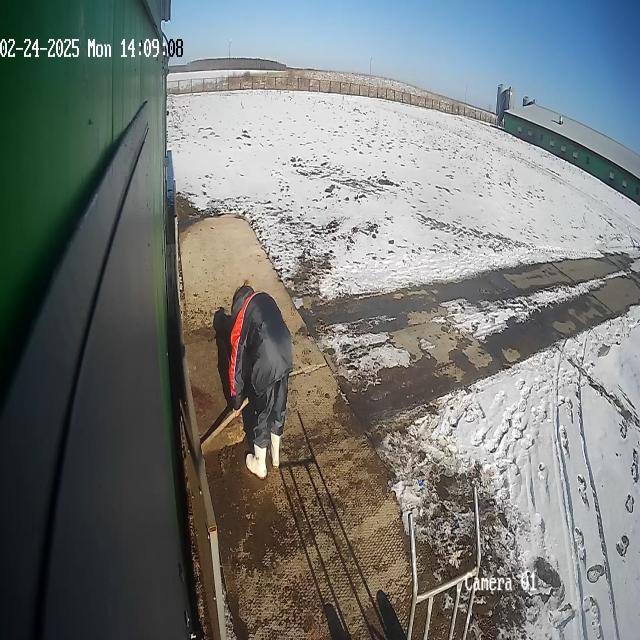Red uniform: (212, 280, 294, 481)
